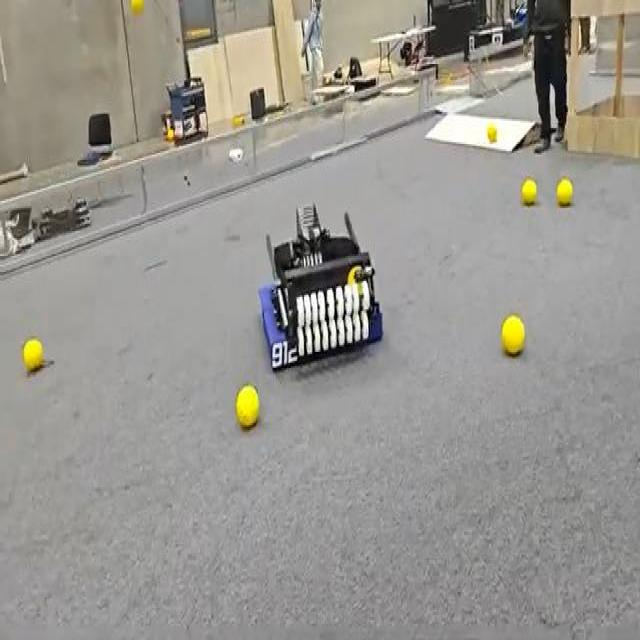Fuel: (501, 314, 524, 354), (236, 386, 259, 426), (23, 339, 43, 372), (557, 178, 573, 206), (521, 178, 536, 204), (348, 266, 362, 286), (487, 124, 497, 142), (131, 0, 143, 14), (556, 180, 564, 197), (521, 180, 528, 197), (167, 128, 174, 140), (234, 116, 241, 126)
